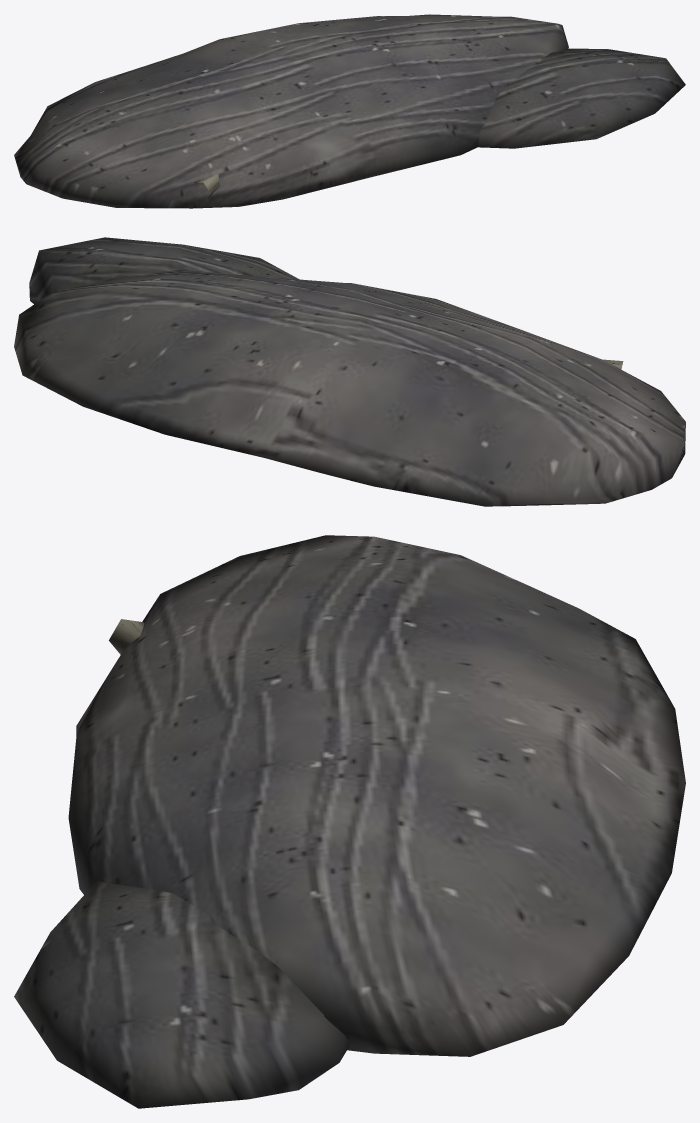
File: helheim_ash_drift_a.glb
The picture shows the model from 3 angles, top to bottom: view 1: azimuth 30°, elevation 25°; view 2: azimuth 150°, elevation 25°; view 3: azimuth 270°, elevation 25°; orthographic projection. The views are drawn at different scales.
Parts seen in each view (by area): view 1: helheim_ash_drift_a; view 2: helheim_ash_drift_a; view 3: helheim_ash_drift_a.
Boxes of the visible parts, <box> form: helheim_ash_drift_a: <box>14,14,685,208</box>; helheim_ash_drift_a: <box>14,237,685,506</box>; helheim_ash_drift_a: <box>14,535,685,1108</box>.
Size of the model in its own units: 2.16 by 0.2422 by 1.13.
2 materials, 2 textured.
